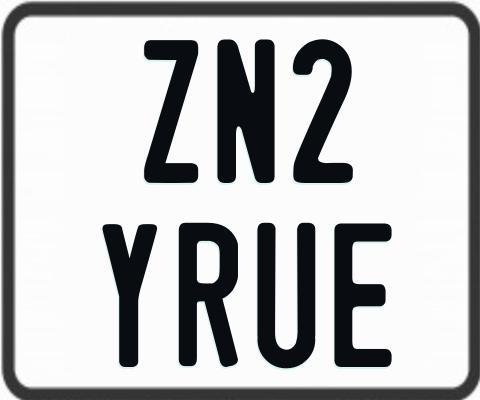2: (293, 38, 355, 184)
E: (333, 223, 394, 368)
N: (214, 38, 275, 183)
R: (179, 222, 243, 369)
U: (255, 222, 314, 370)
Y: (101, 223, 156, 369)
Z: (143, 37, 201, 183)
